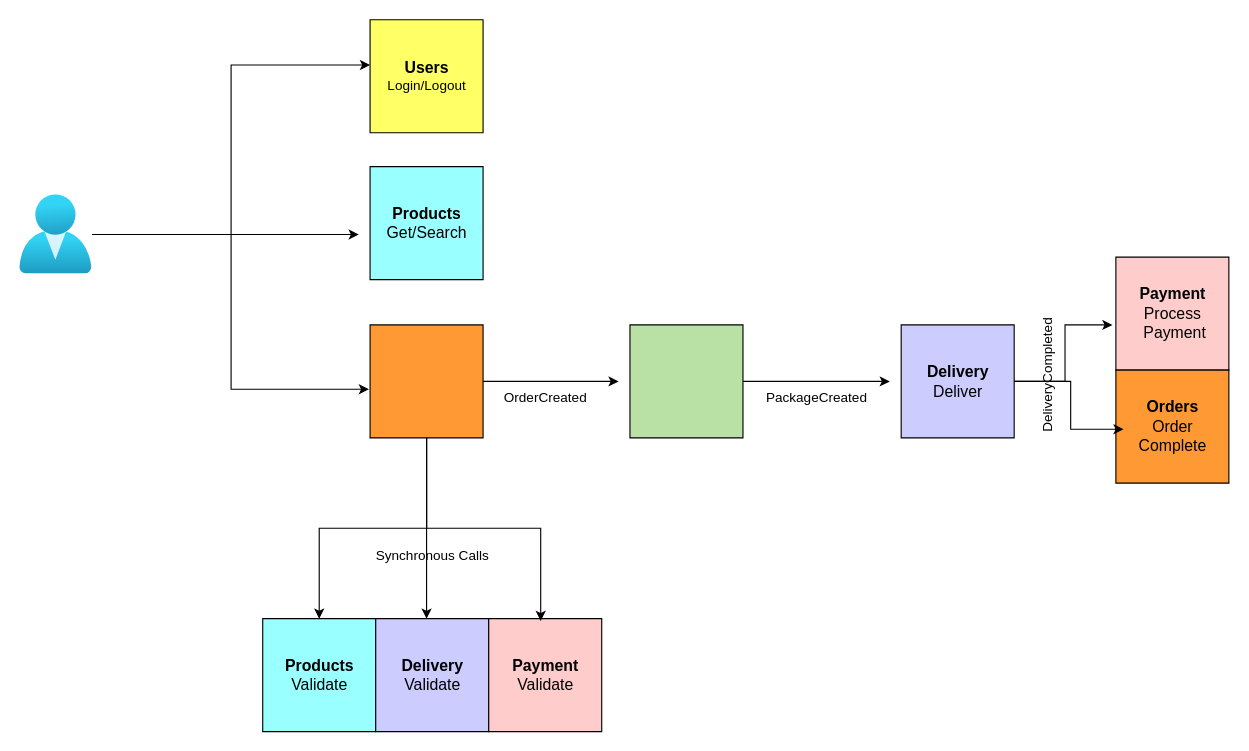
The diagram is 1249 pixels wide and 751 high, and some of its shapes have lost their labels. Here are the shapes that lost their labels. From the top down, the centre of each, then its label:
the point at 426,381: Orders CreateOrder
the point at 686,381: Warehouse Package
